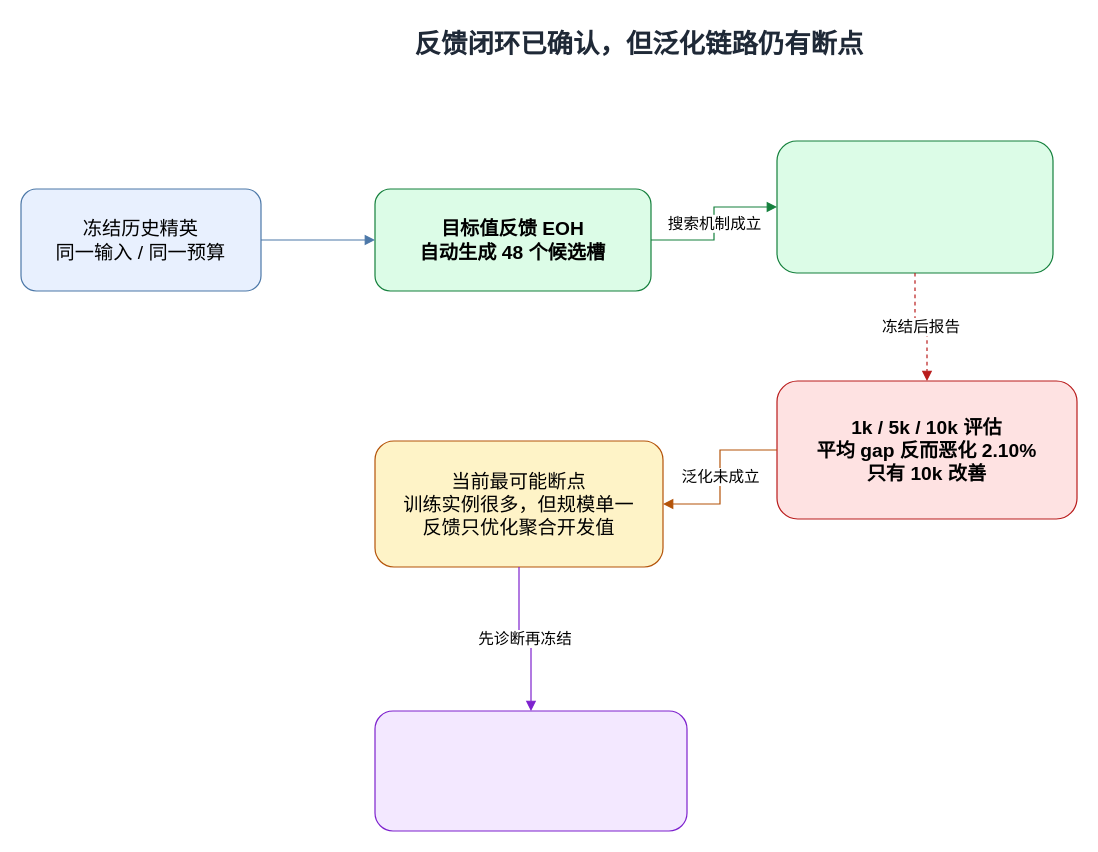
This 1098x852 diagram has some shape labels left out. The shapes that lost their labels are listed below. From the top down, each one's centre as x and y in pixels, then its label:
At [914,206]: "5k 单尺度开发集 3/3 胜旧反馈 最佳改善 3.887%".
At [530,770]: "下一实验 单尺度 vs 等计算量多尺度训练 使用全新确认集".
